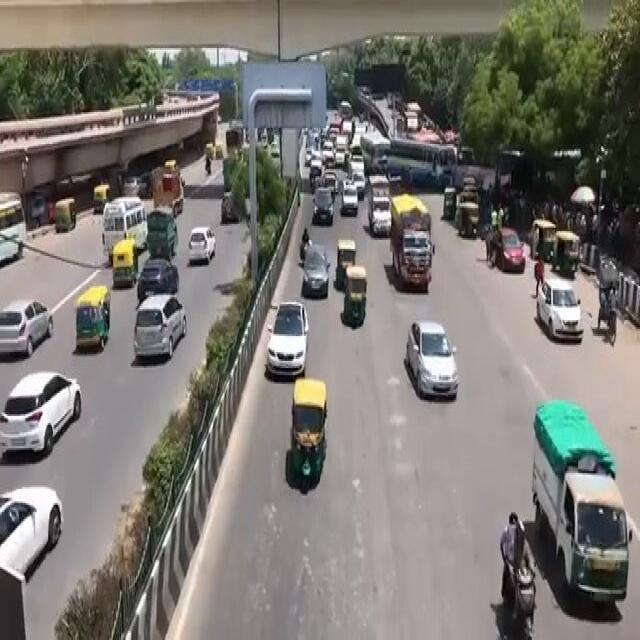three_wheeler: (280, 371, 338, 505)
